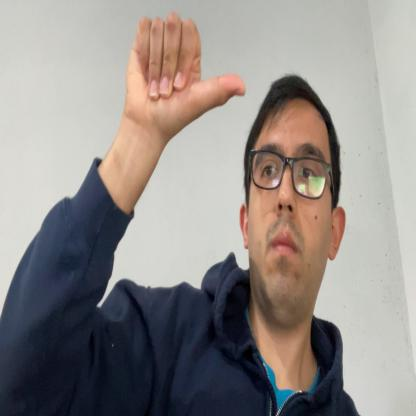A: (123, 12, 246, 138)
